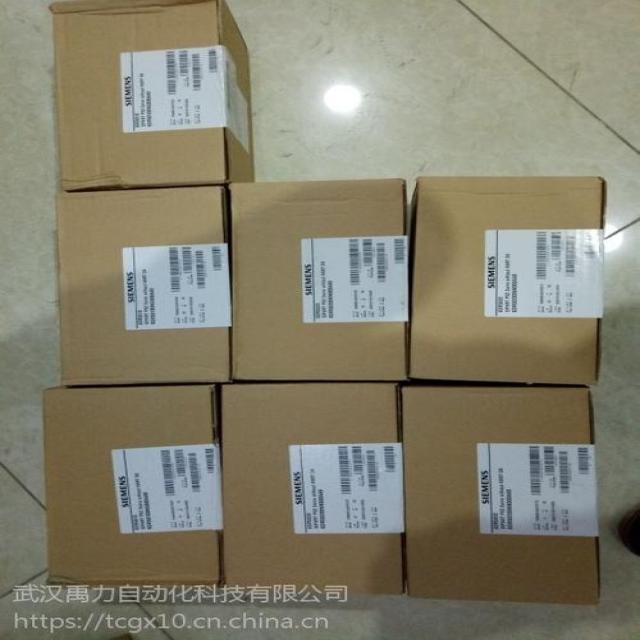Carton: (50, 29, 404, 597), (402, 384, 600, 599), (408, 177, 602, 387), (44, 388, 219, 587)
